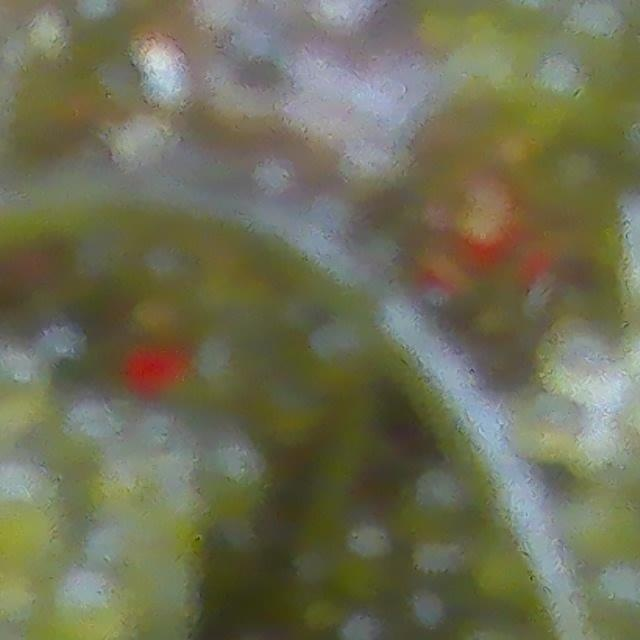SeaGrape: (0, 462, 72, 568), (39, 571, 142, 640), (536, 325, 615, 402), (470, 542, 542, 612)
